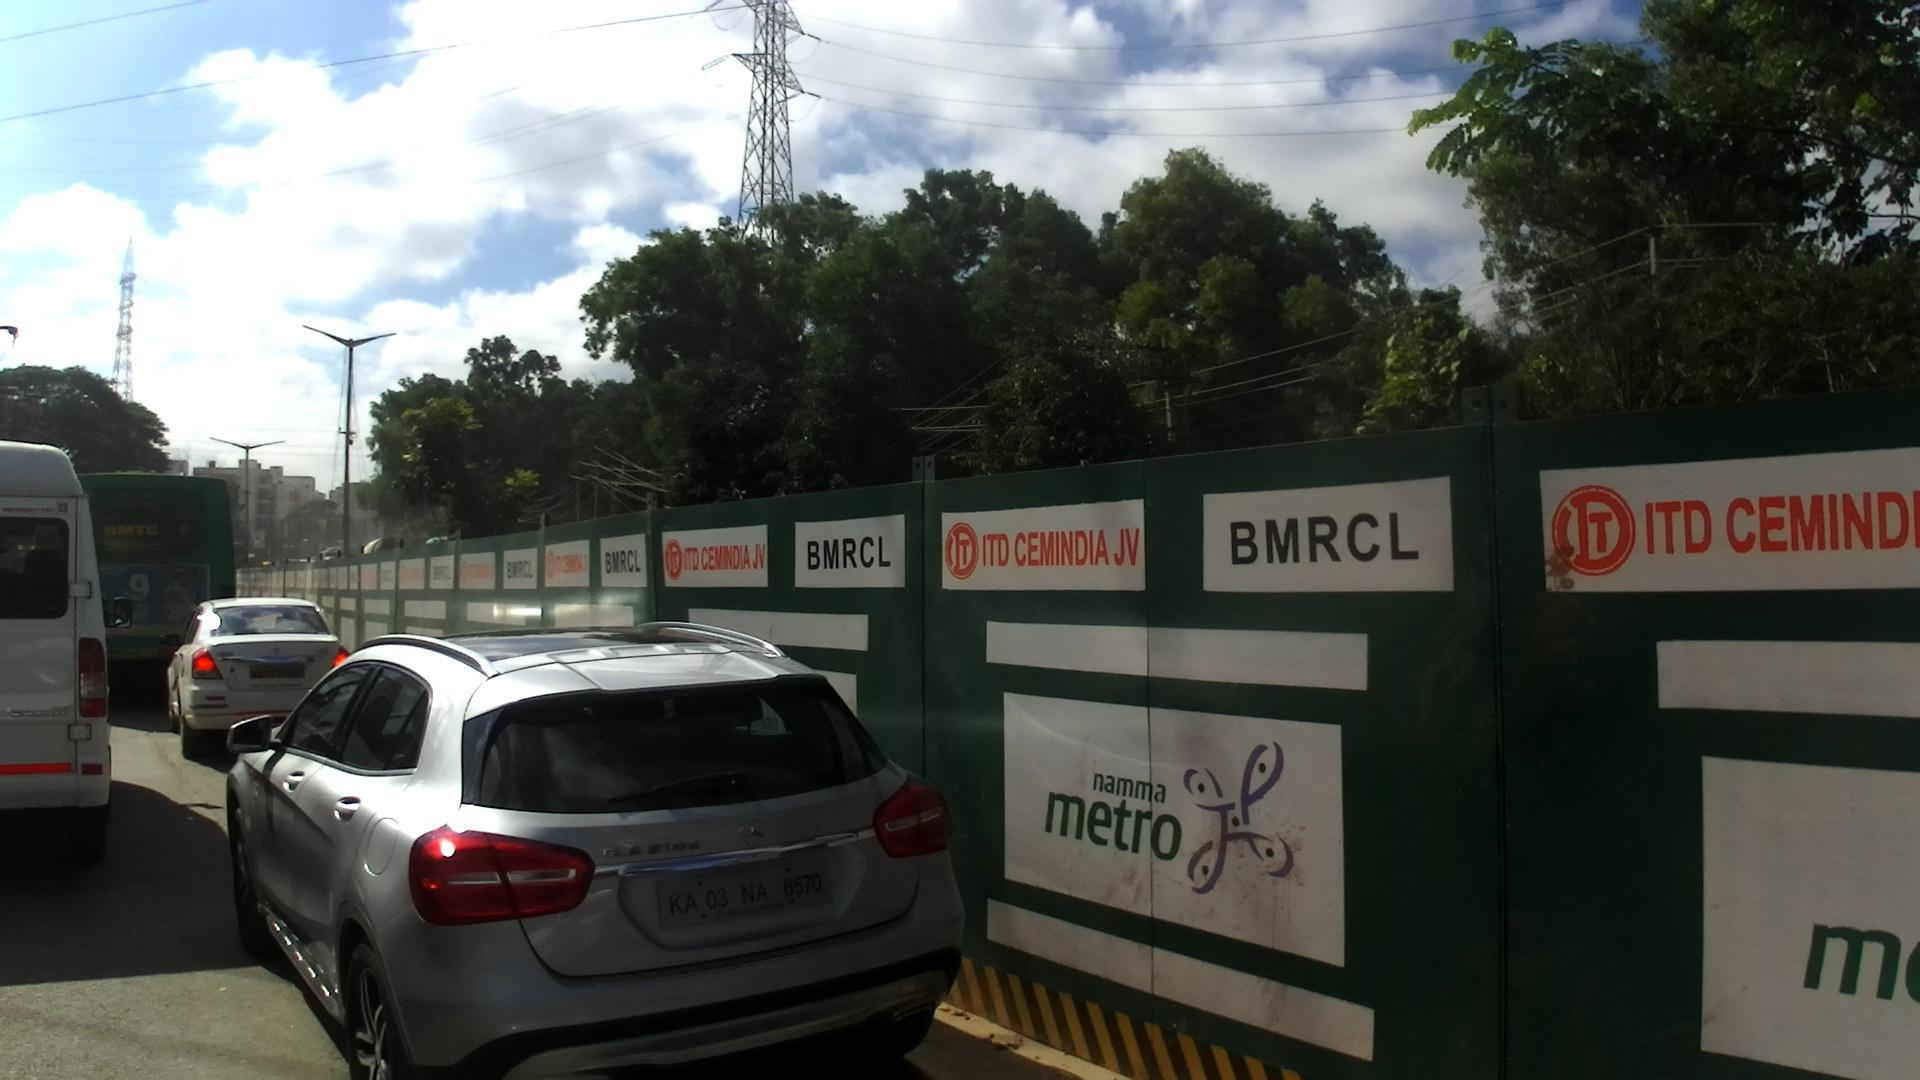off: (0, 0, 1830, 1051)
